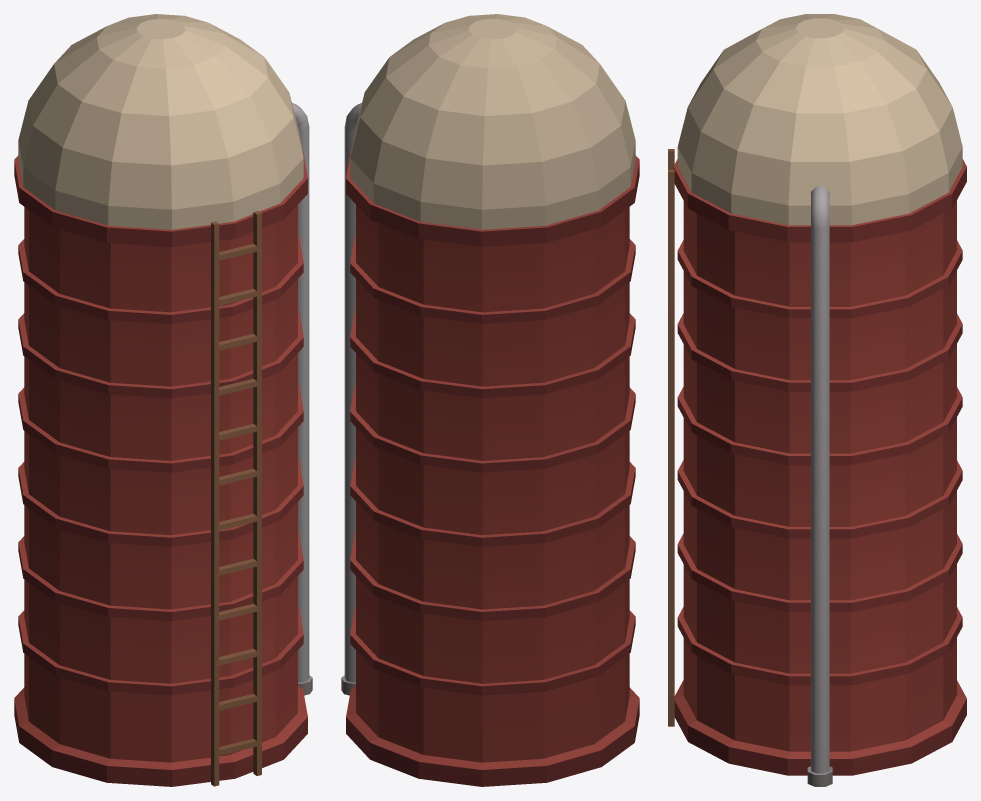
Rendered from Silo_Remake.glb.
The picture shows the model from 3 angles, left to right: view 1: azimuth 30°, elevation 25°; view 2: azimuth 150°, elevation 25°; view 3: azimuth 270°, elevation 25°; orthographic projection.
Parts seen in each view (by area): view 1: Silo_Remake; view 2: Silo_Remake; view 3: Silo_Remake.
Boxes of the visible parts, x1,y1,x2,y2 form: Silo_Remake: [14, 14, 312, 786]; Silo_Remake: [341, 14, 639, 786]; Silo_Remake: [668, 14, 966, 786].
Size of the model in its own units: 3.73 by 9.04 by 3.57.
